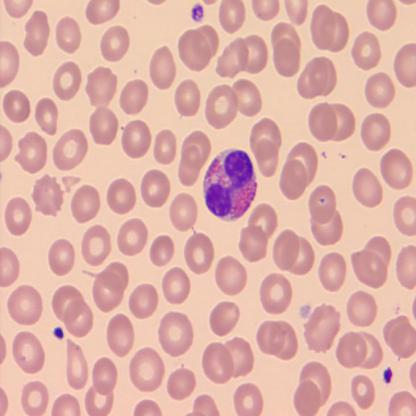Eosinophil: (202, 146, 257, 221)
